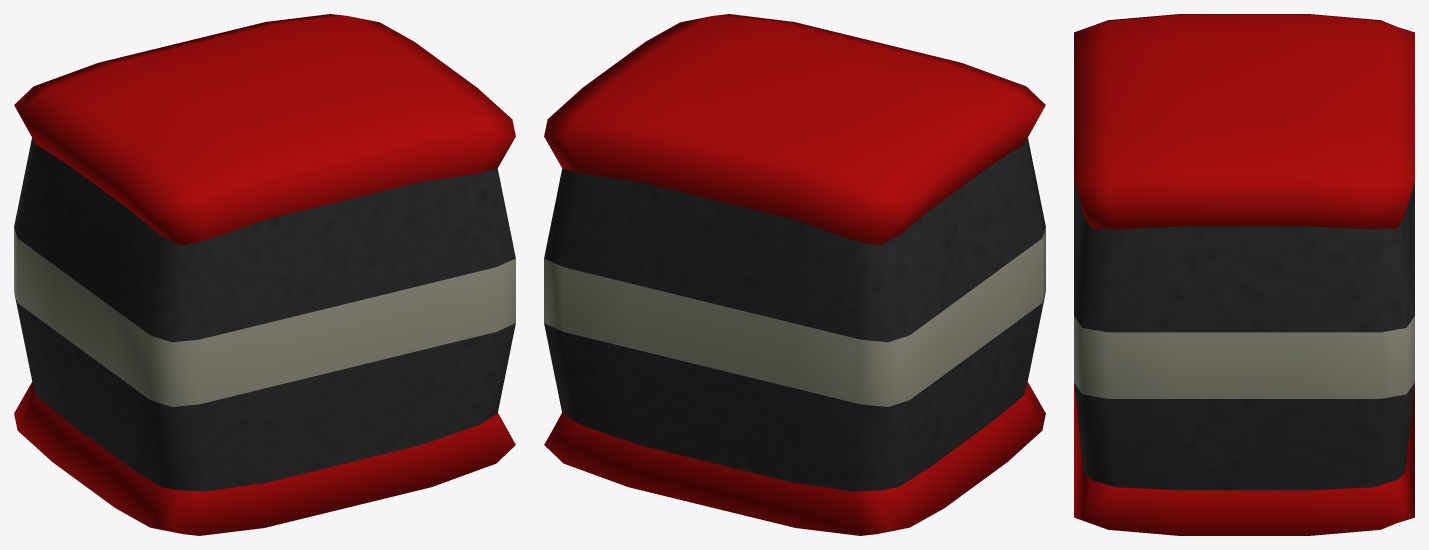
File: Licorice.glb
3 views of the same model, side by side, from view 1: azimuth 30°, elevation 25°; view 2: azimuth 150°, elevation 25°; view 3: azimuth 270°, elevation 25° (orthographic). The views are drawn at different scales.
Parts seen in each view (by area): view 1: geometry_0; view 2: geometry_0; view 3: geometry_0.
Part boxes in pixels (x1,y1,x2,y2): geometry_0: [14, 14, 515, 535]; geometry_0: [544, 14, 1045, 535]; geometry_0: [1074, 14, 1414, 535].
Size of the model in its own units: 2 by 2 by 1.59.
Materials: 1 (1 with a texture image).
